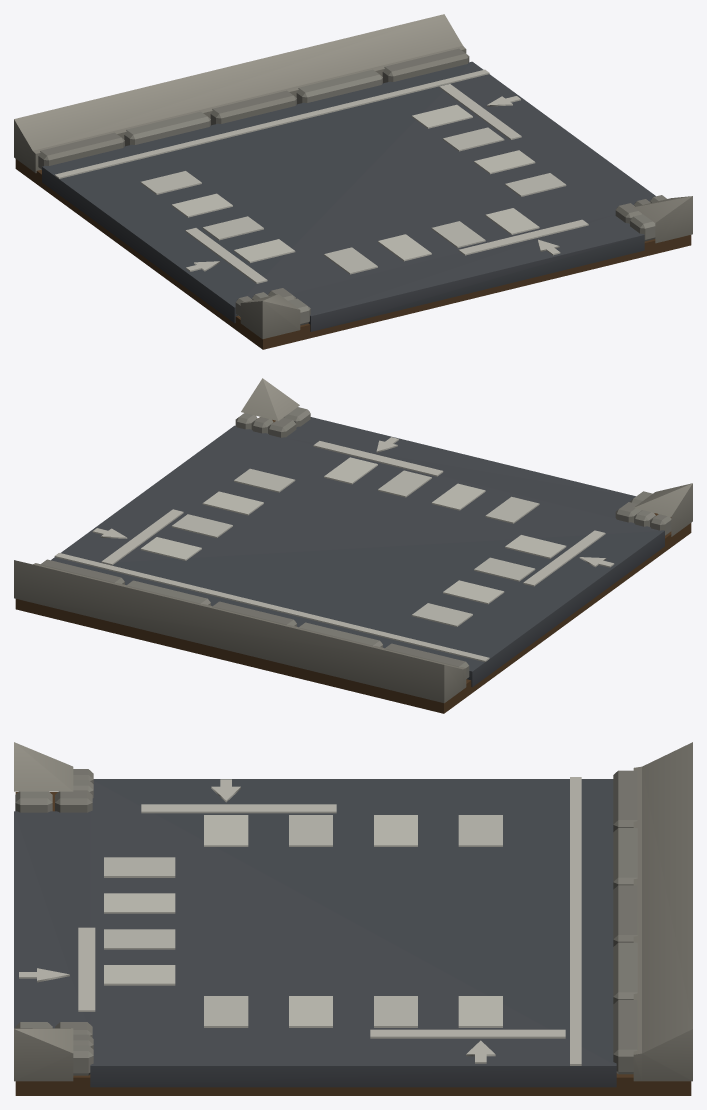
File: road-tjunction-01.glb
The picture shows the model from 3 angles, top to bottom: view 1: azimuth 30°, elevation 25°; view 2: azimuth 150°, elevation 25°; view 3: azimuth 270°, elevation 25°; orthographic projection. The views are drawn at different scales.
Parts seen in each view (by area): view 1: road_tjunction_01; view 2: road_tjunction_01; view 3: road_tjunction_01.
Boxes of the visible parts, x1,y1,x2,y2 form: road_tjunction_01: (14,14,692,349); road_tjunction_01: (14,378,692,713); road_tjunction_01: (14,742,692,1095).
Bounding box in the file's own units: 4 × 0.44 × 4.
